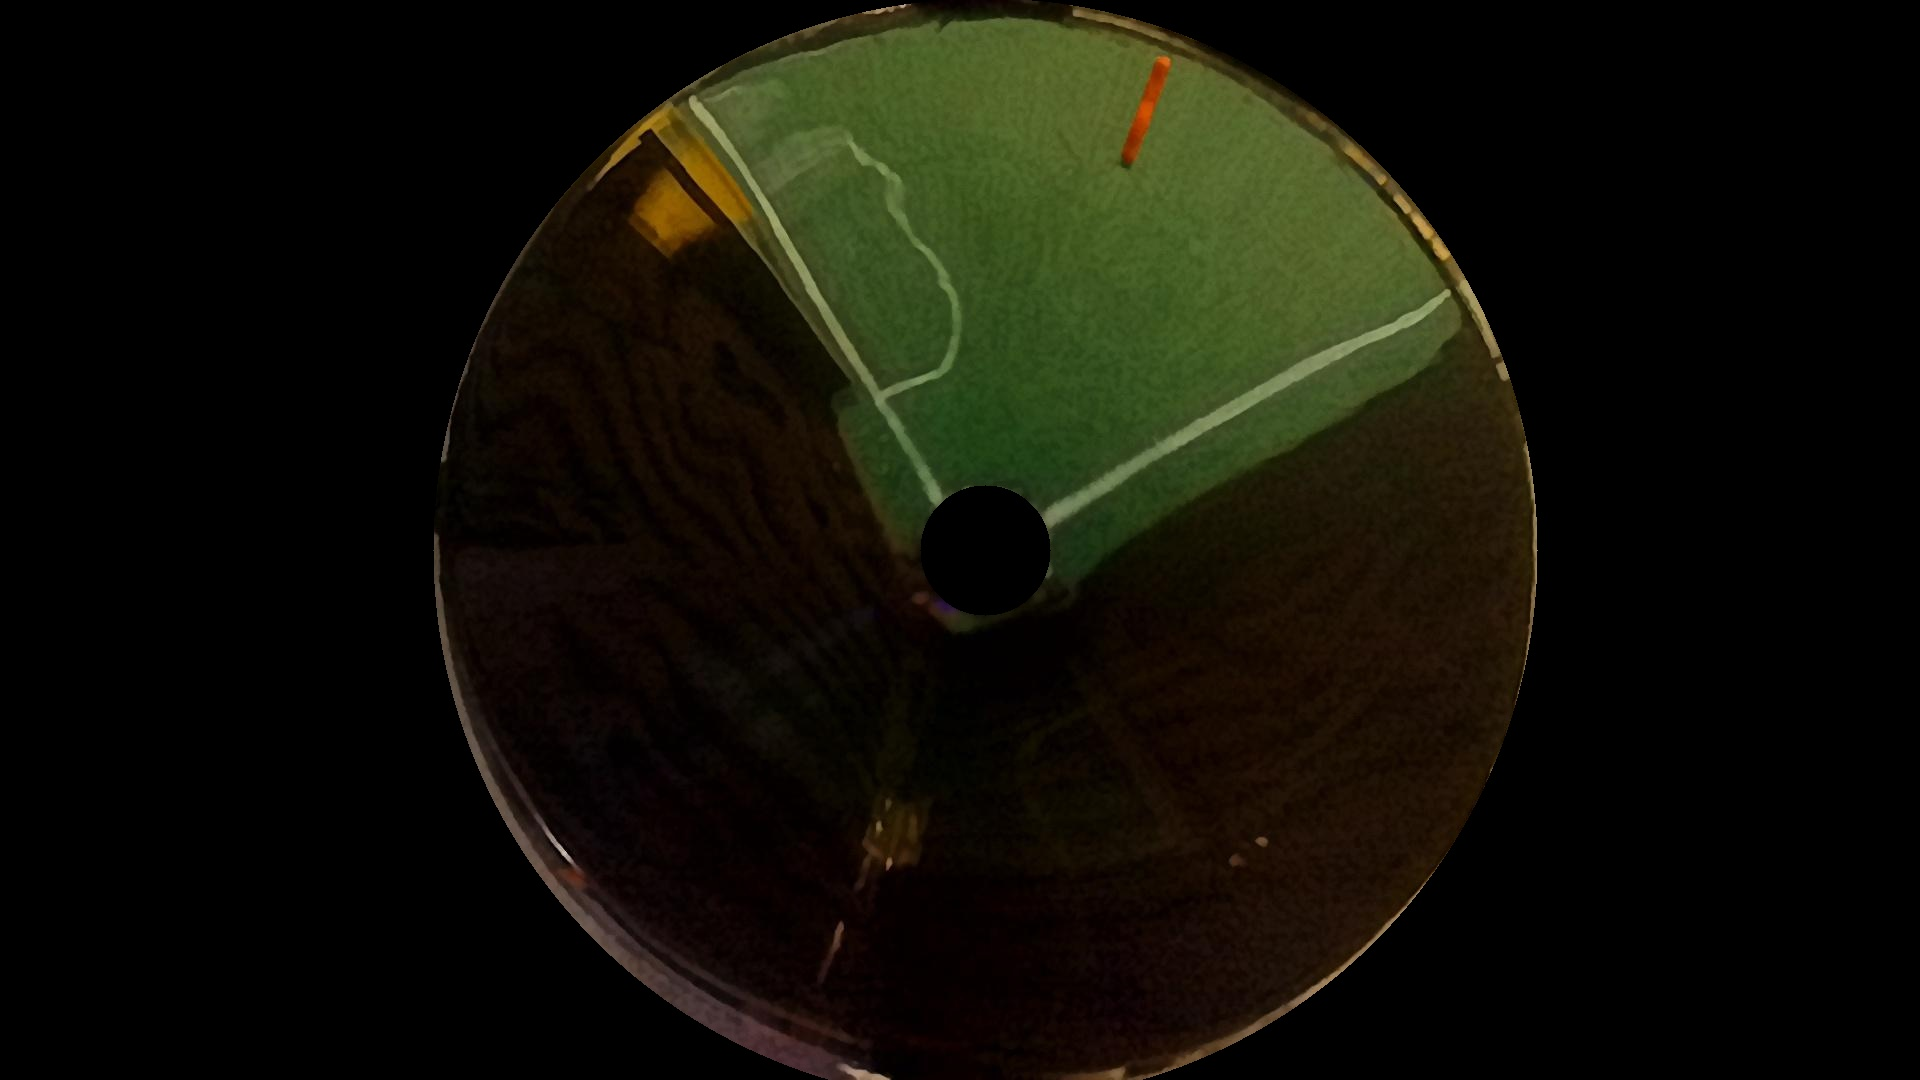ball: (1104, 112, 1158, 169)
yellow-goal: (601, 94, 802, 327)
